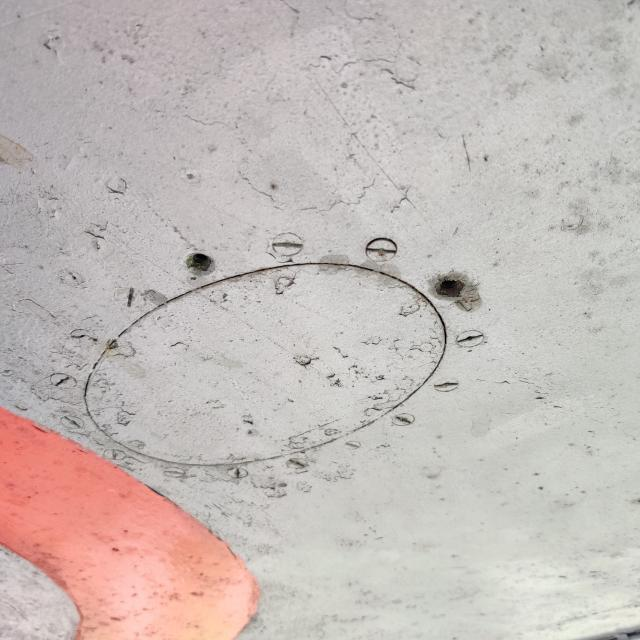missing-head: (416, 252, 491, 322), (166, 230, 237, 301)
